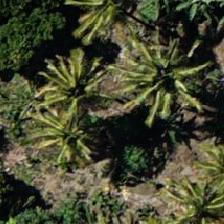Kelapa_Sawit: (32, 41, 122, 131), (23, 89, 113, 179), (115, 31, 205, 121), (57, 0, 147, 48), (158, 160, 223, 223)
